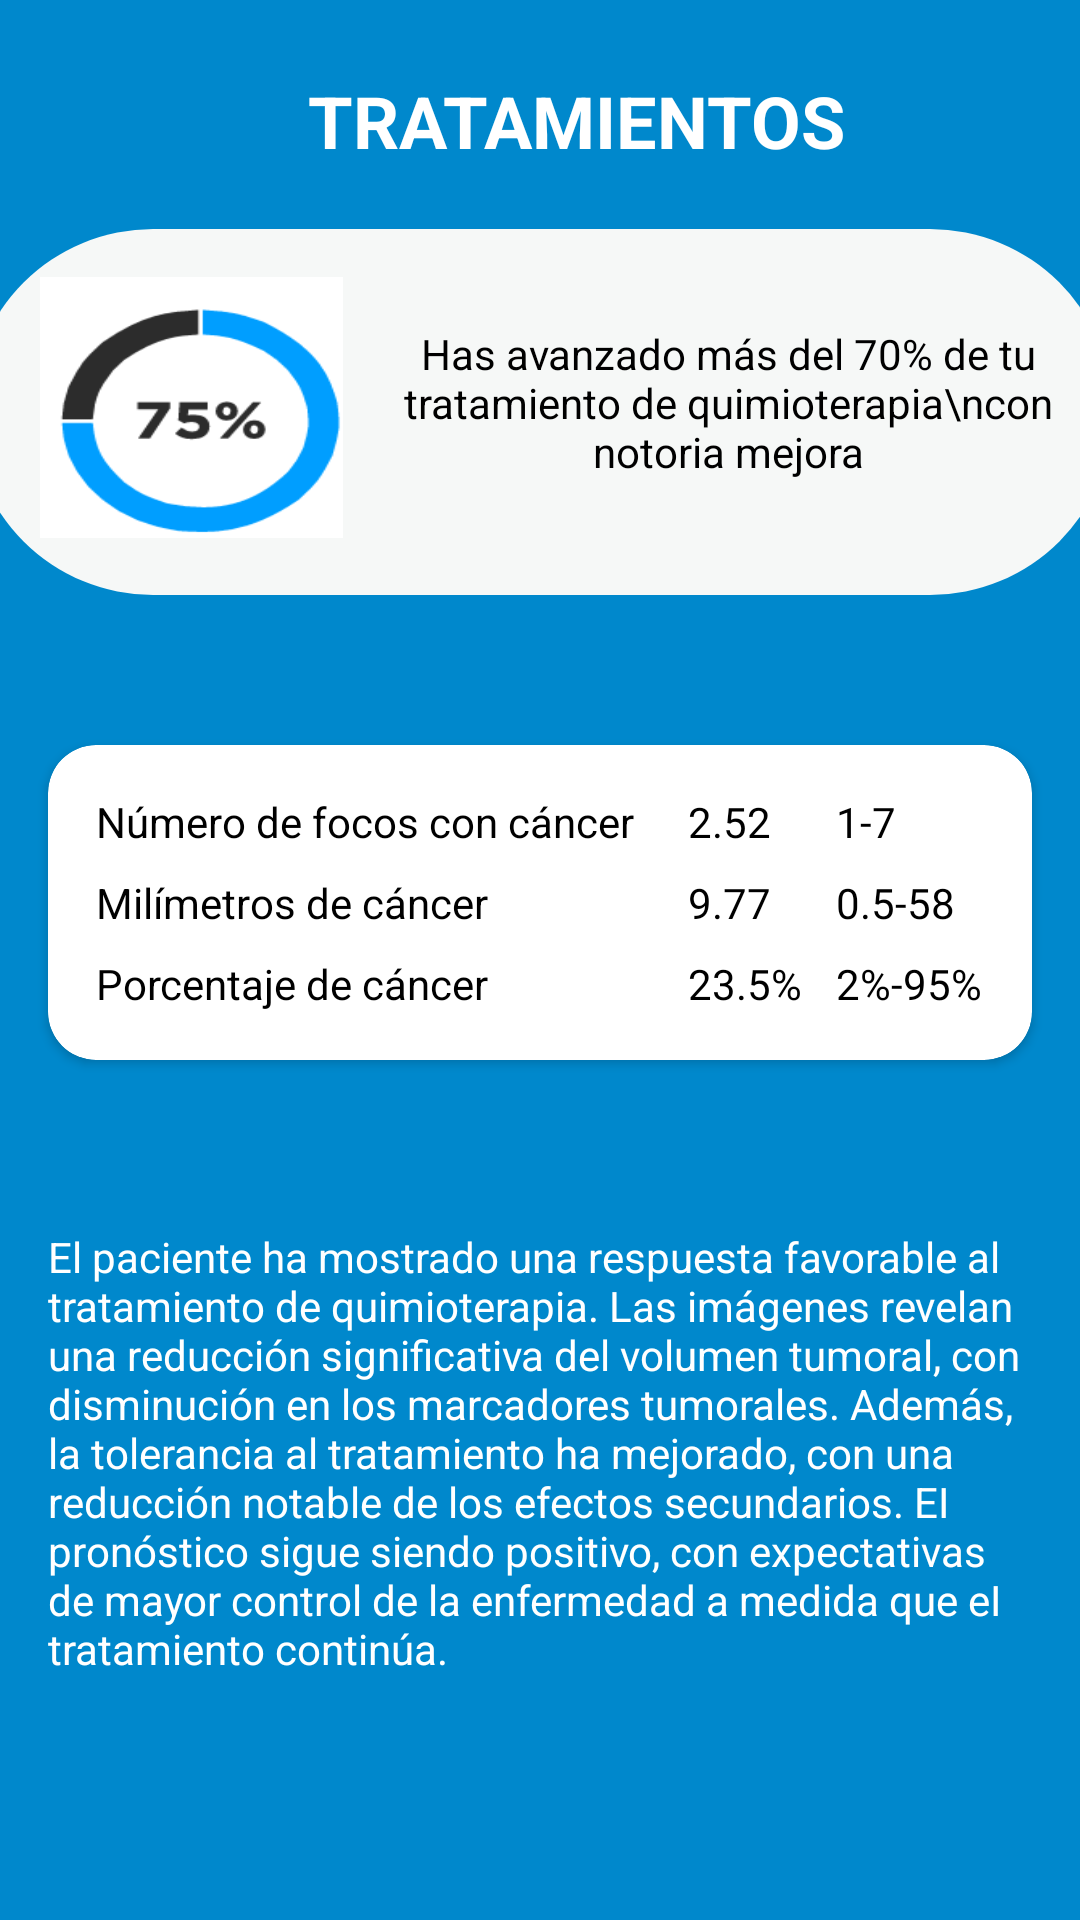

Where icons sit on this 1080×1920 app screen, as (x1, y1, x2, y2):
progress: (40, 277, 343, 538)
